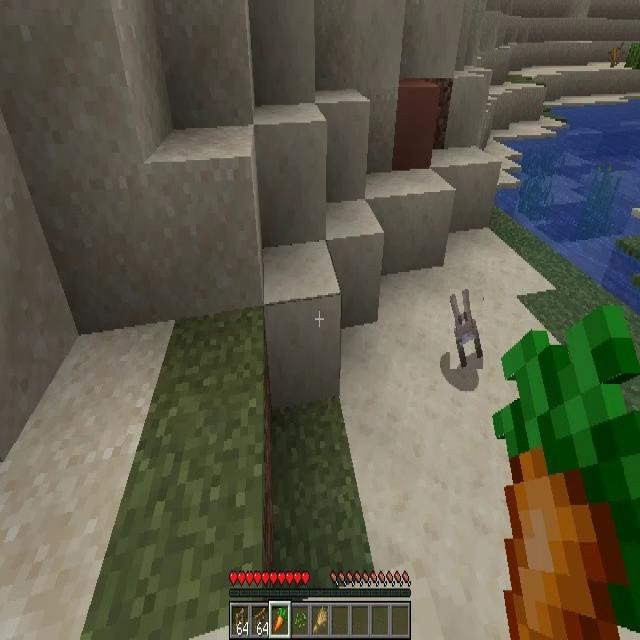rabbit: (450, 290, 483, 370)
